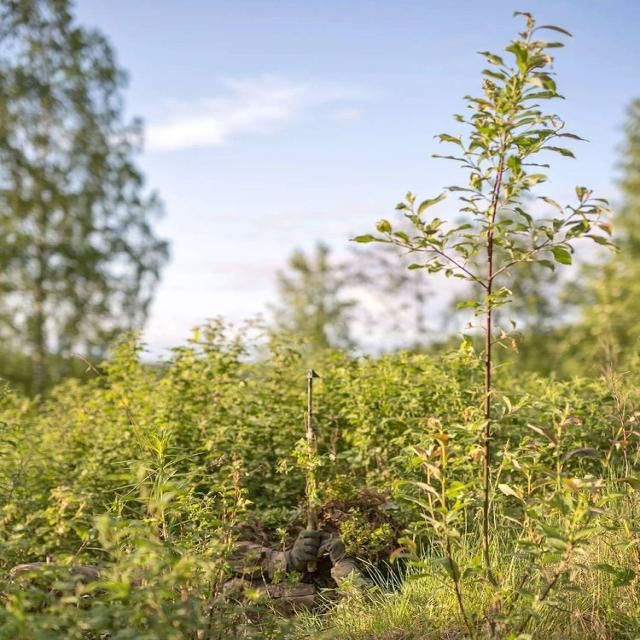Camouflage: (12, 371, 438, 617)
